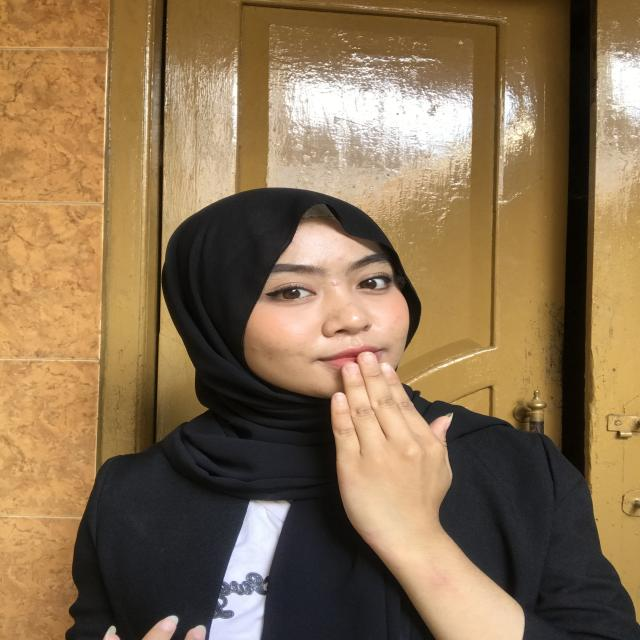ganteng: (320, 348, 463, 560)
